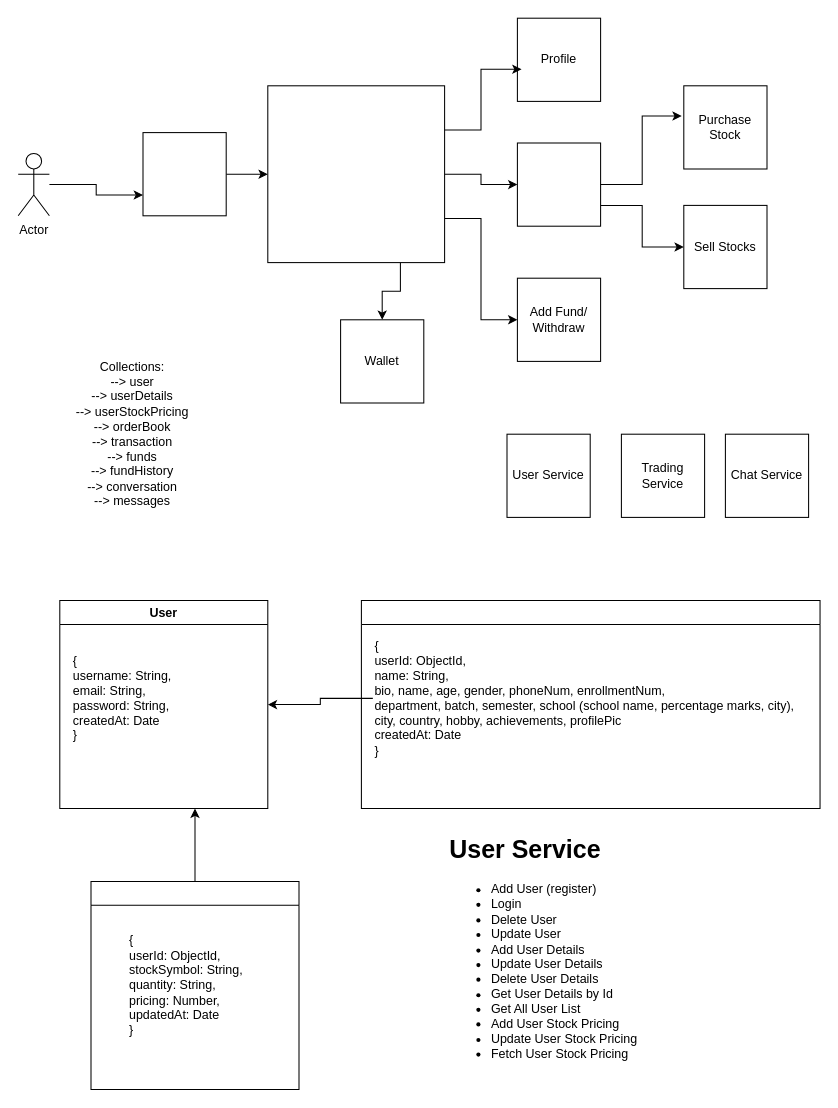
This 838x1108 diagram has some shape labels left out. The box of each missing label's shape, as (x1, y1, x2, y2) in pixels:
All Stocks: (516, 142, 601, 226)
Home Page -- User Stats (current price, volume) -- Trending Stocks: (267, 85, 445, 263)
Register/Login: (142, 132, 226, 216)
User Stock Pricing: (90, 880, 299, 1089)
UserDetails: (360, 600, 820, 809)
